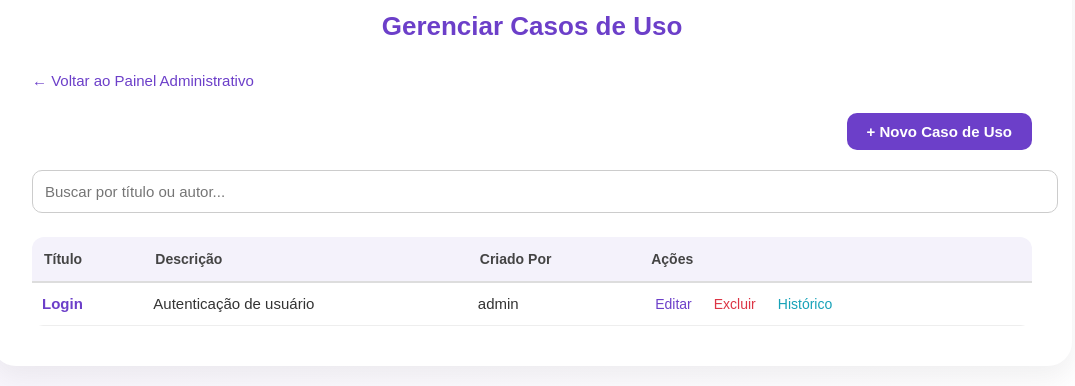
Test: AdminUseCases › exclui um caso de uso após confirmação
Click the button "Excluir": (735, 304) [708, 295, 762, 313]
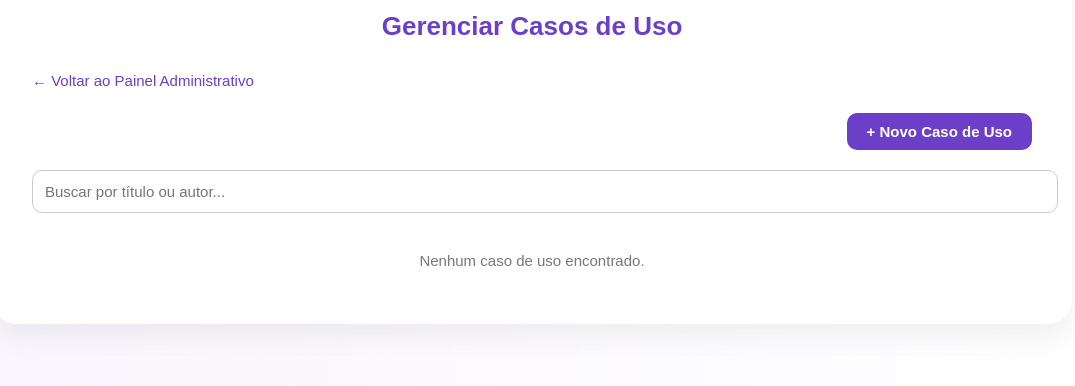
Now the link "Login" is gone
